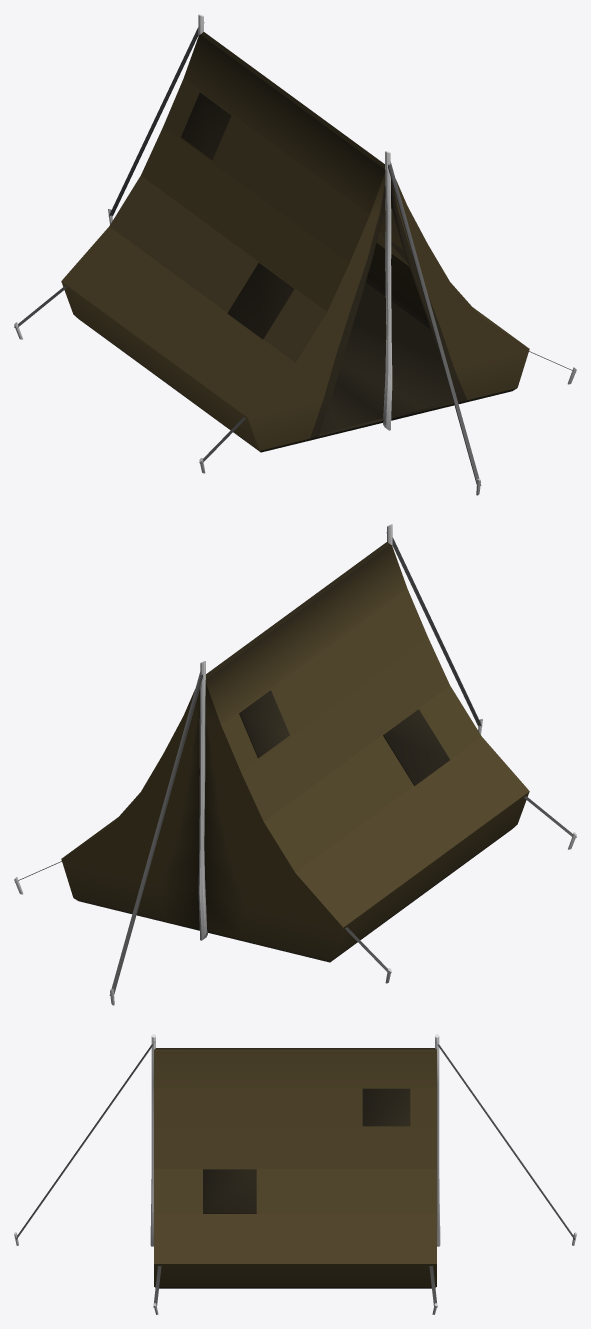
File: pq_tente.glb
The picture shows the model from 3 angles, top to bottom: view 1: azimuth 30°, elevation 25°; view 2: azimuth 150°, elevation 25°; view 3: azimuth 270°, elevation 25°; orthographic projection. The views are drawn at different scales.
Parts seen in each view (by area): view 1: Tent; view 2: Tent; view 3: Tent.
Boxes of the visible parts, box(x1,y1,x2,y2) form: Tent: box(14, 14, 576, 495); Tent: box(14, 524, 576, 1005); Tent: box(14, 1034, 576, 1314).
Size of the model in its own units: 2.92 by 2.06 by 4.97.
